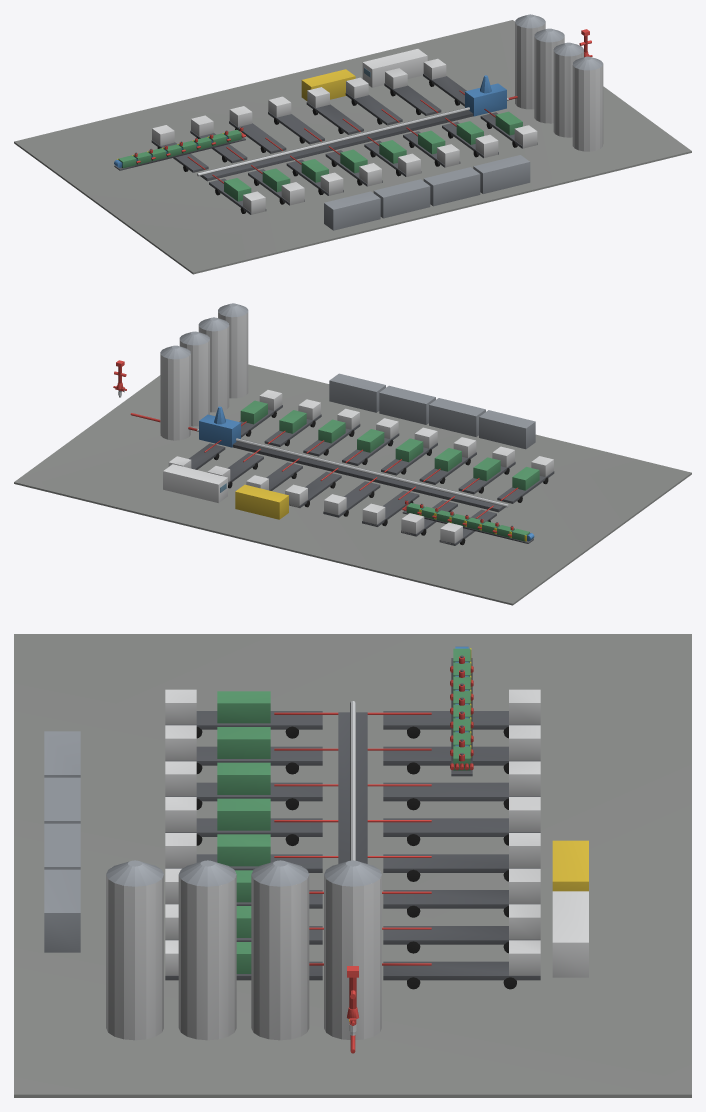
File: frac_med.glb
3 renders of one model, top to bottom at view 1: azimuth 30°, elevation 25°; view 2: azimuth 150°, elevation 25°; view 3: azimuth 270°, elevation 25°, orthographic. The views are drawn at different scales.
Parts seen in each view (by area): view 1: site__pad, carrier__trailers, mudtanks__tanks, mudtanks__degasser, mudpumps__fluidend2, choke__manifold, mudpumps__powerend, generators__vfd, mudtanks__solids, generators__gensets; view 2: site__pad, carrier__trailers, mudtanks__tanks, mudtanks__degasser, mudpumps__fluidend2, choke__manifold, generators__vfd, mudpumps__powerend, generators__gensets, mudtanks__solids; view 3: site__pad, carrier__trailers, mudtanks__tanks, mudpumps__fluidend2, mudtanks__degasser, choke__manifold, generators__vfd, mudpumps__powerend, generators__gensets.
Boxes of the visible parts, left/top/right/bottom form: site__pad: left=14, top=20, right=691, bottom=274; carrier__trailers: left=151, top=58, right=537, bottom=214; mudtanks__tanks: left=515, top=14, right=603, bottom=151; mudtanks__degasser: left=324, top=155, right=530, bottom=230; mudpumps__fluidend2: left=224, top=111, right=522, bottom=201; choke__manifold: left=187, top=90, right=517, bottom=183; mudpumps__powerend: left=114, top=129, right=245, bottom=170; generators__vfd: left=362, top=49, right=427, bottom=87; mudtanks__solids: left=465, top=75, right=506, bottom=116; generators__gensets: left=301, top=69, right=355, bottom=100; site__pad: left=14, top=364, right=691, bottom=605; carrier__trailers: left=168, top=390, right=554, bottom=545; mudtanks__tanks: left=160, top=303, right=248, bottom=440; mudtanks__degasser: left=329, top=373, right=535, bottom=449; mudpumps__fluidend2: left=240, top=400, right=539, bottom=490; choke__manifold: left=130, top=413, right=518, bottom=518; generators__vfd: left=163, top=464, right=227, bottom=502; mudpumps__powerend: left=402, top=503, right=533, bottom=543; generators__gensets: left=235, top=484, right=288, bottom=519; mudtanks__solids: left=199, top=406, right=240, bottom=447; site__pad: left=14, top=634, right=691, bottom=1097; carrier__trailers: left=165, top=689, right=540, bottom=989; mudtanks__tanks: left=106, top=860, right=381, bottom=1040; mudpumps__fluidend2: left=217, top=691, right=270, bottom=973; mudtanks__degasser: left=44, top=731, right=80, bottom=952; choke__manifold: left=274, top=701, right=431, bottom=1053; generators__vfd: left=552, top=891, right=588, bottom=977; mudpumps__powerend: left=451, top=648, right=472, bottom=776; generators__gensets: left=552, top=840, right=588, bottom=891.
Size of the model in its own units: 90 by 15.3 by 56.
